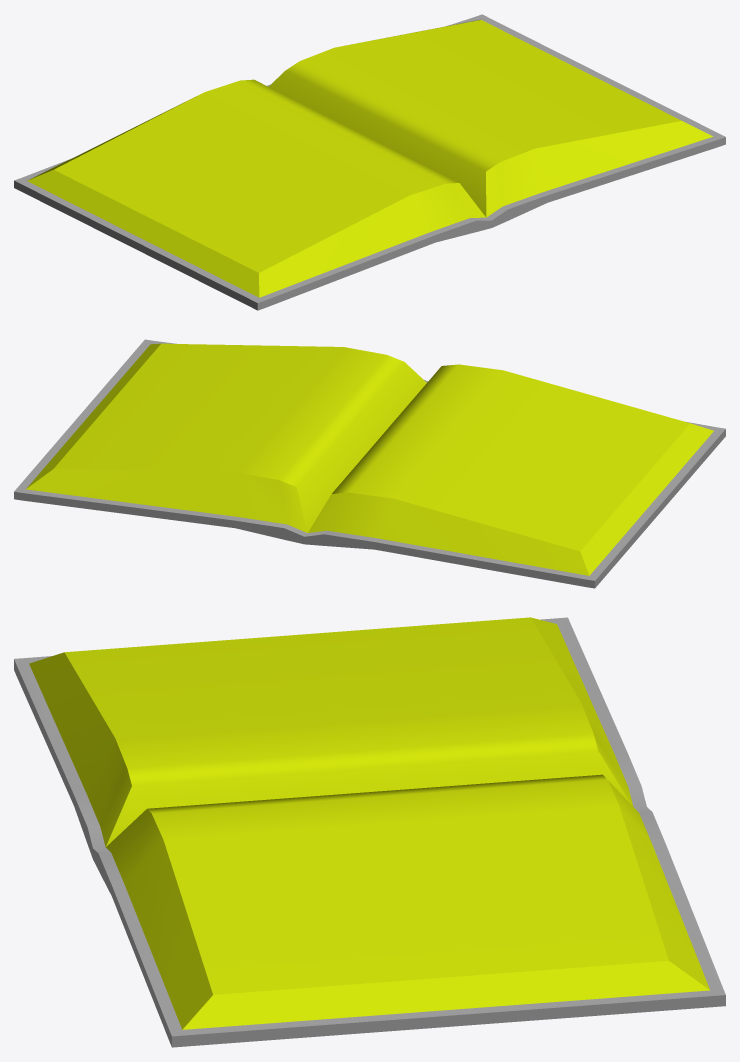
The model's file is book_open_asset.fbx.
3 views of the same model, one above another, from view 1: azimuth 30°, elevation 25°; view 2: azimuth 150°, elevation 25°; view 3: azimuth 270°, elevation 25° (orthographic). The views are drawn at different scales.
Parts seen in each view (by area): view 1: book_open_asset; view 2: book_open_asset; view 3: book_open_asset.
Part boxes in pixels (left/top/right/bottom): book_open_asset: left=14, top=14, right=725, bottom=310; book_open_asset: left=14, top=339, right=725, bottom=588; book_open_asset: left=14, top=617, right=725, bottom=1047.
Size of the model in its own units: 1.03 by 0.0778 by 0.7401.
